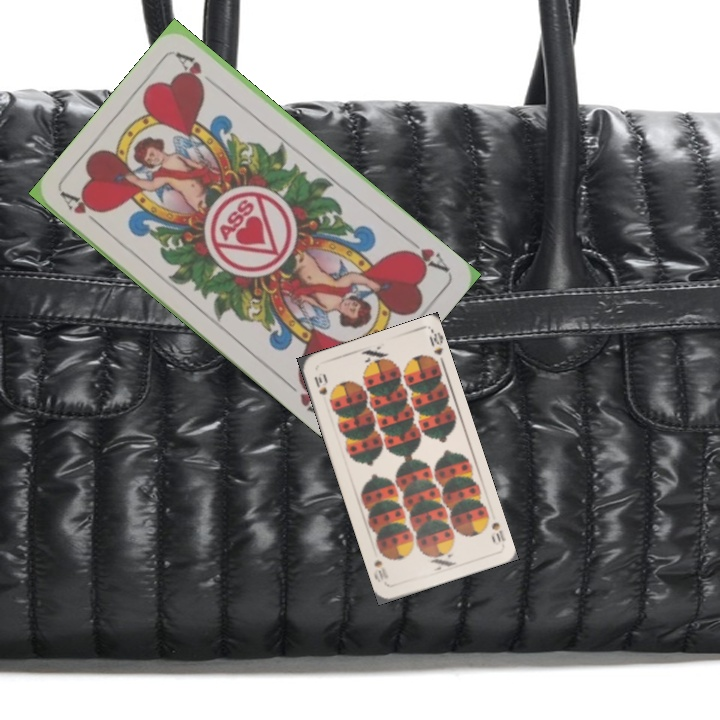HA: (399, 232, 452, 275), (58, 188, 108, 233)
S10: (482, 510, 508, 545), (310, 370, 330, 398)
